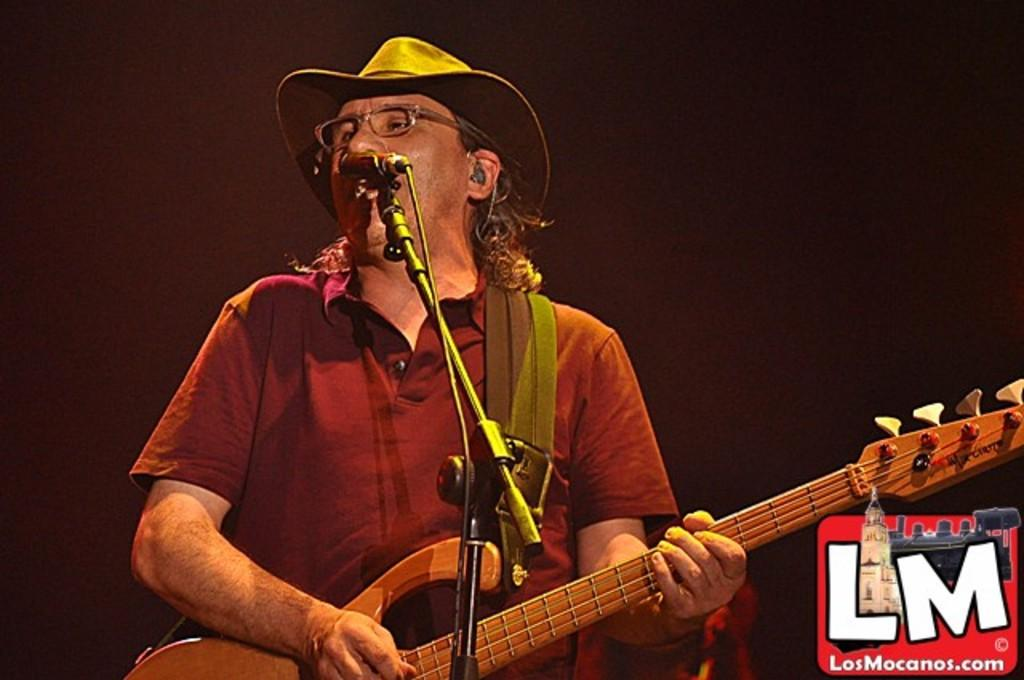Hat: (276, 35, 550, 241)
